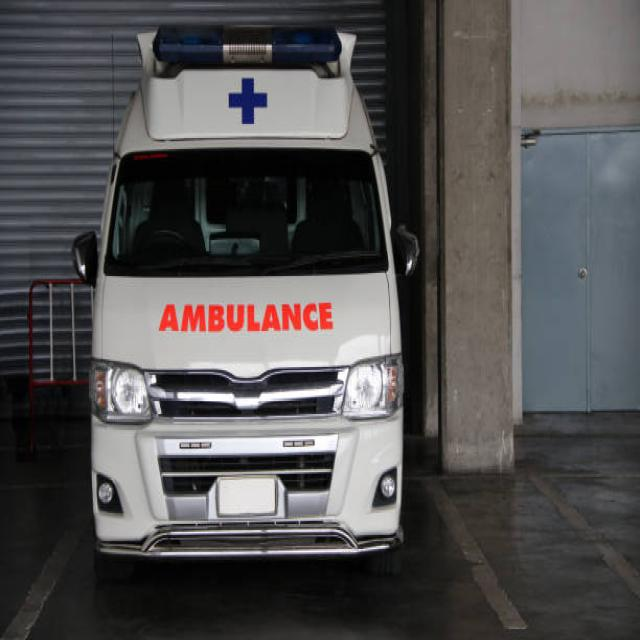emergency: (74, 26, 416, 578)
